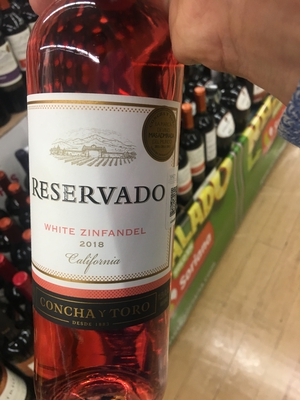reservado white zinfandel: (30, 11, 178, 397)
